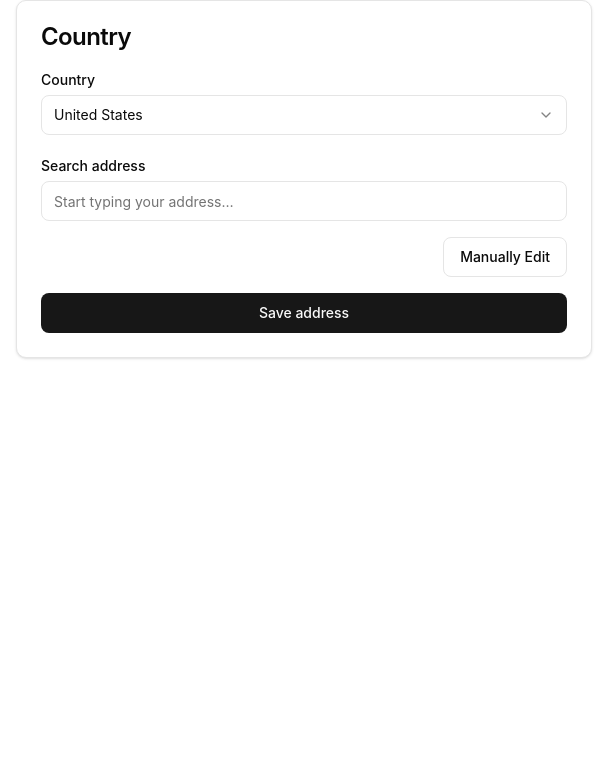
Test: AddressForm — runtime validation & country switch (US2) › blocks an empty submit with per-field required errors
The width and height of the screenshot is (609, 778).
Click the button "Manually Edit": (505, 257) [443,237,567,277]
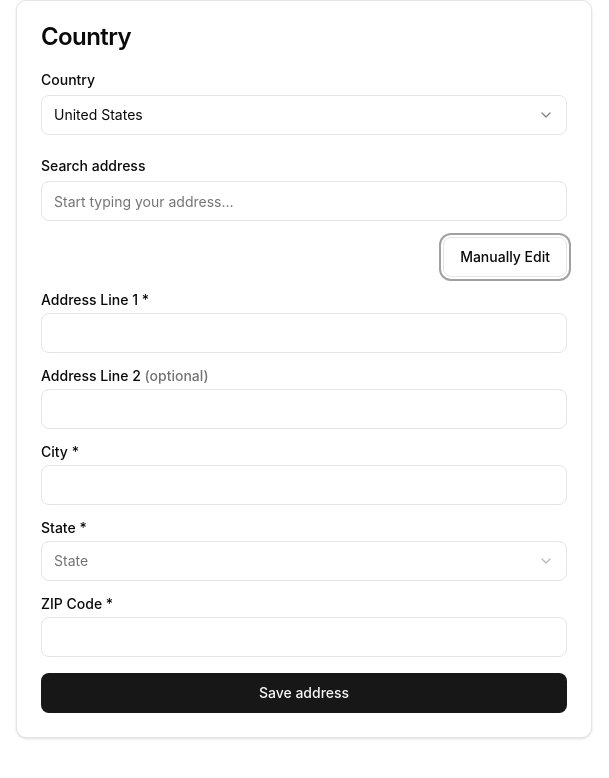
Click the button "Save address": (304, 693) [41,673,567,713]
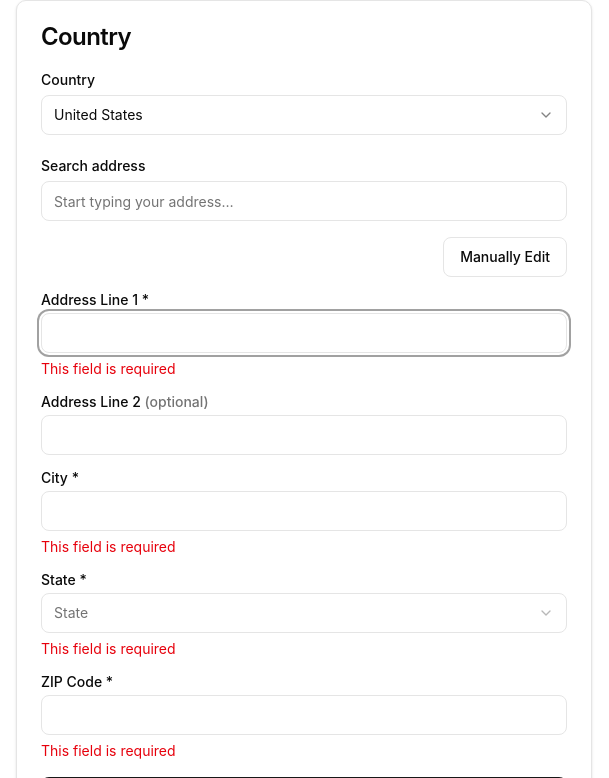
Check: the text "This field is required" below "Address Line 1" is shown, box [41,360,176,377]
